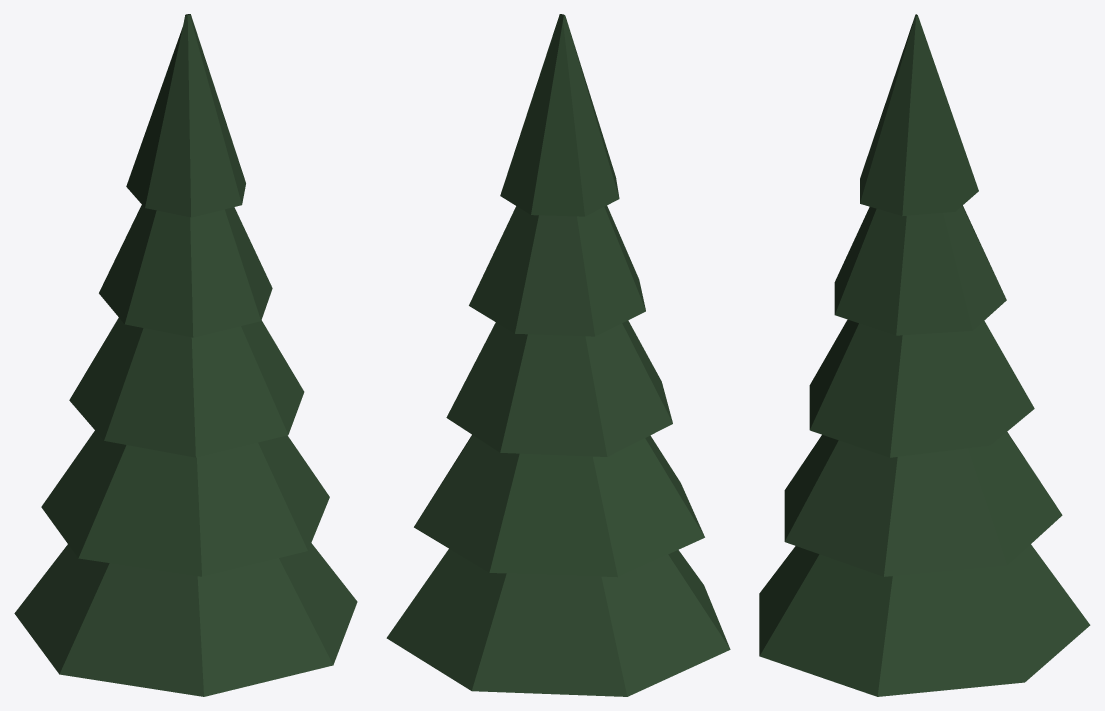
File: fir_far_a.glb
3 renders of one model, left to right at view 1: azimuth 30°, elevation 25°; view 2: azimuth 150°, elevation 25°; view 3: azimuth 270°, elevation 25°, orthographic.
Visible parts, largest first — view 1: fir_far_a; view 2: fir_far_a; view 3: fir_far_a.
Boxes of the visible parts, left/top/right/bottom form: fir_far_a: left=14, top=14, right=357, bottom=696; fir_far_a: left=386, top=14, right=730, bottom=696; fir_far_a: left=759, top=14, right=1090, bottom=696.
Bounding box in the file's own units: 5.53 × 10.8 × 5.32.
